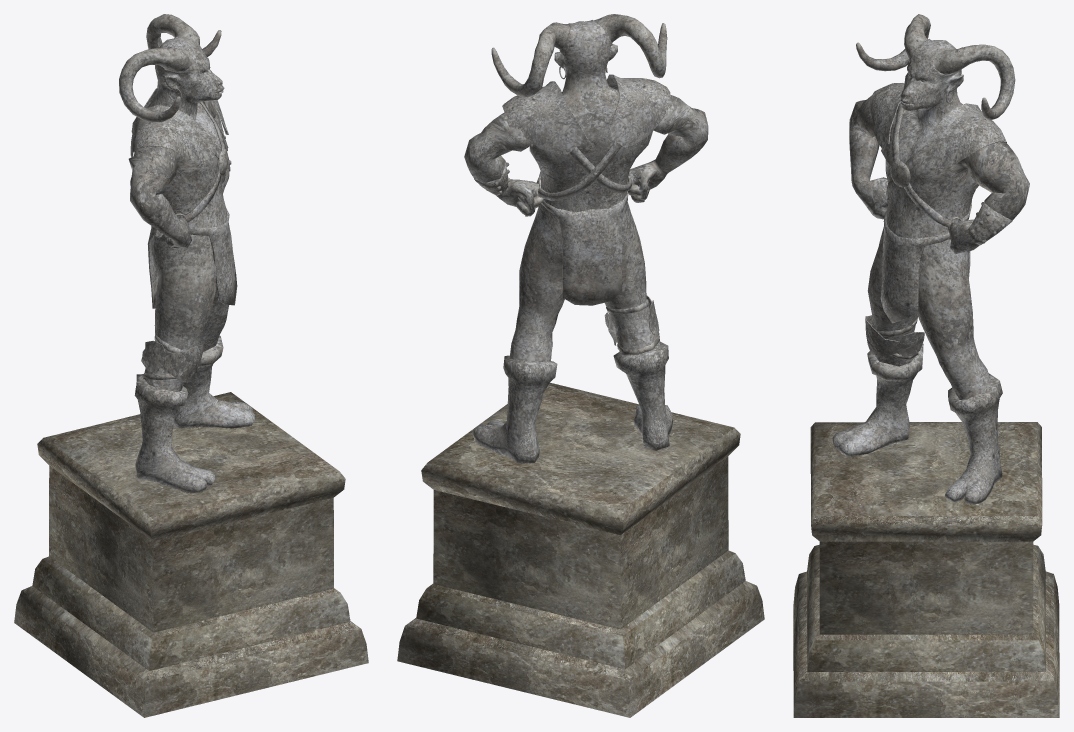
File: Belial_Statues_02.FBX
The picture shows the model from 3 angles, left to right: view 1: azimuth 30°, elevation 25°; view 2: azimuth 150°, elevation 25°; view 3: azimuth 270°, elevation 25°; orthographic projection. The views are drawn at different scales.
Visible parts, largest first — view 1: Pedestal_01, Belial_Statues002; view 2: Pedestal_01, Belial_Statues002; view 3: Pedestal_01, Belial_Statues002.
Boxes of the visible parts, box(x1,y1,x2,y2) form: Pedestal_01: box(14, 392, 368, 717); Belial_Statues002: box(119, 14, 255, 493); Pedestal_01: box(397, 382, 764, 717); Belial_Statues002: box(464, 14, 708, 463); Pedestal_01: box(793, 422, 1059, 717); Belial_Statues002: box(832, 14, 1029, 504).
Bounding box in the file's own units: 125 × 323 × 125.
